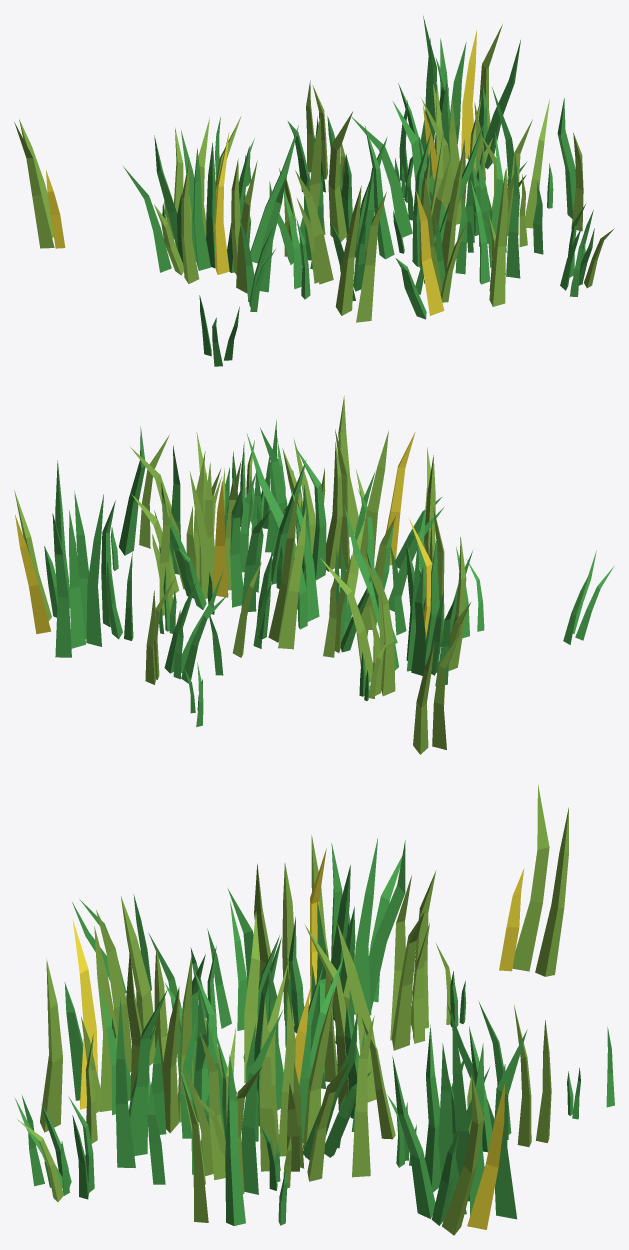
Rendered from grass.gltf.
3 renders of one model, top to bottom at view 1: azimuth 30°, elevation 25°; view 2: azimuth 150°, elevation 25°; view 3: azimuth 270°, elevation 25°, orthographic. The views are drawn at different scales.
Parts seen in each view (by area): view 1: group1744197509, group9935422, group1743764551, group1617591992, group1681983211, group1005795212, group1495017289, group902223660, group1446851719, group443349435, group908757786, group1878667904 (+45 smaller); view 2: group774800547, group2095924070, group2057631278, group201890841, group1743764551, group1325005311, group945836210, group54891894, group1255547812, group612556706, group337239005, group1495017289 (+55 smaller); view 3: group1495017289, group1744197509, group54891894, group360301143, group1661925368, group774800547, group2043014497, group46854911, group1697339476, group252032136, group1255547812, group678362861 (+65 smaller).
Part boxes in pixels (x1,y1,x2,y2): group1744197509: (489,169,508,306); group9935422: (335,185,361,315); group1743764551: (328,111,352,241); group1617591992: (356,192,386,322); group1681983211: (416,190,444,315); group1005795212: (214,132,229,274); group1495017289: (14,122,54,248); group902223660: (352,117,412,237); group1446851719: (181,158,199,283); group443349435: (295,170,333,284); group908757786: (364,125,394,259); group1878667904: (193,148,210,270); group774800547: (52,513,71,657); group2095924070: (86,494,103,646); group2057631278: (278,507,306,649); group201890841: (69,510,85,648); group1743764551: (268,484,298,642); group1325005311: (295,447,326,580); group945836210: (326,442,342,571); group54891894: (119,426,145,555); group1255547812: (15,515,51,634); group612556706: (230,484,243,607); group337239005: (378,575,395,696); group1495017289: (432,628,462,749); group1495017289: (512,784,549,971); group1744197509: (40,958,62,1132); group54891894: (225,1055,245,1225); group360301143: (535,807,568,976); group1661925368: (442,1076,484,1235); group774800547: (494,1029,527,1219); group2043014497: (392,1056,435,1218); group46854911: (352,1015,374,1177); group1697339476: (131,989,167,1155); group252032136: (241,1009,283,1194); group1255547812: (467,1082,505,1229); group678362861: (115,998,135,1167).
Bounding box in the file's own units: 0.9109 × 0.295 × 0.7792.
